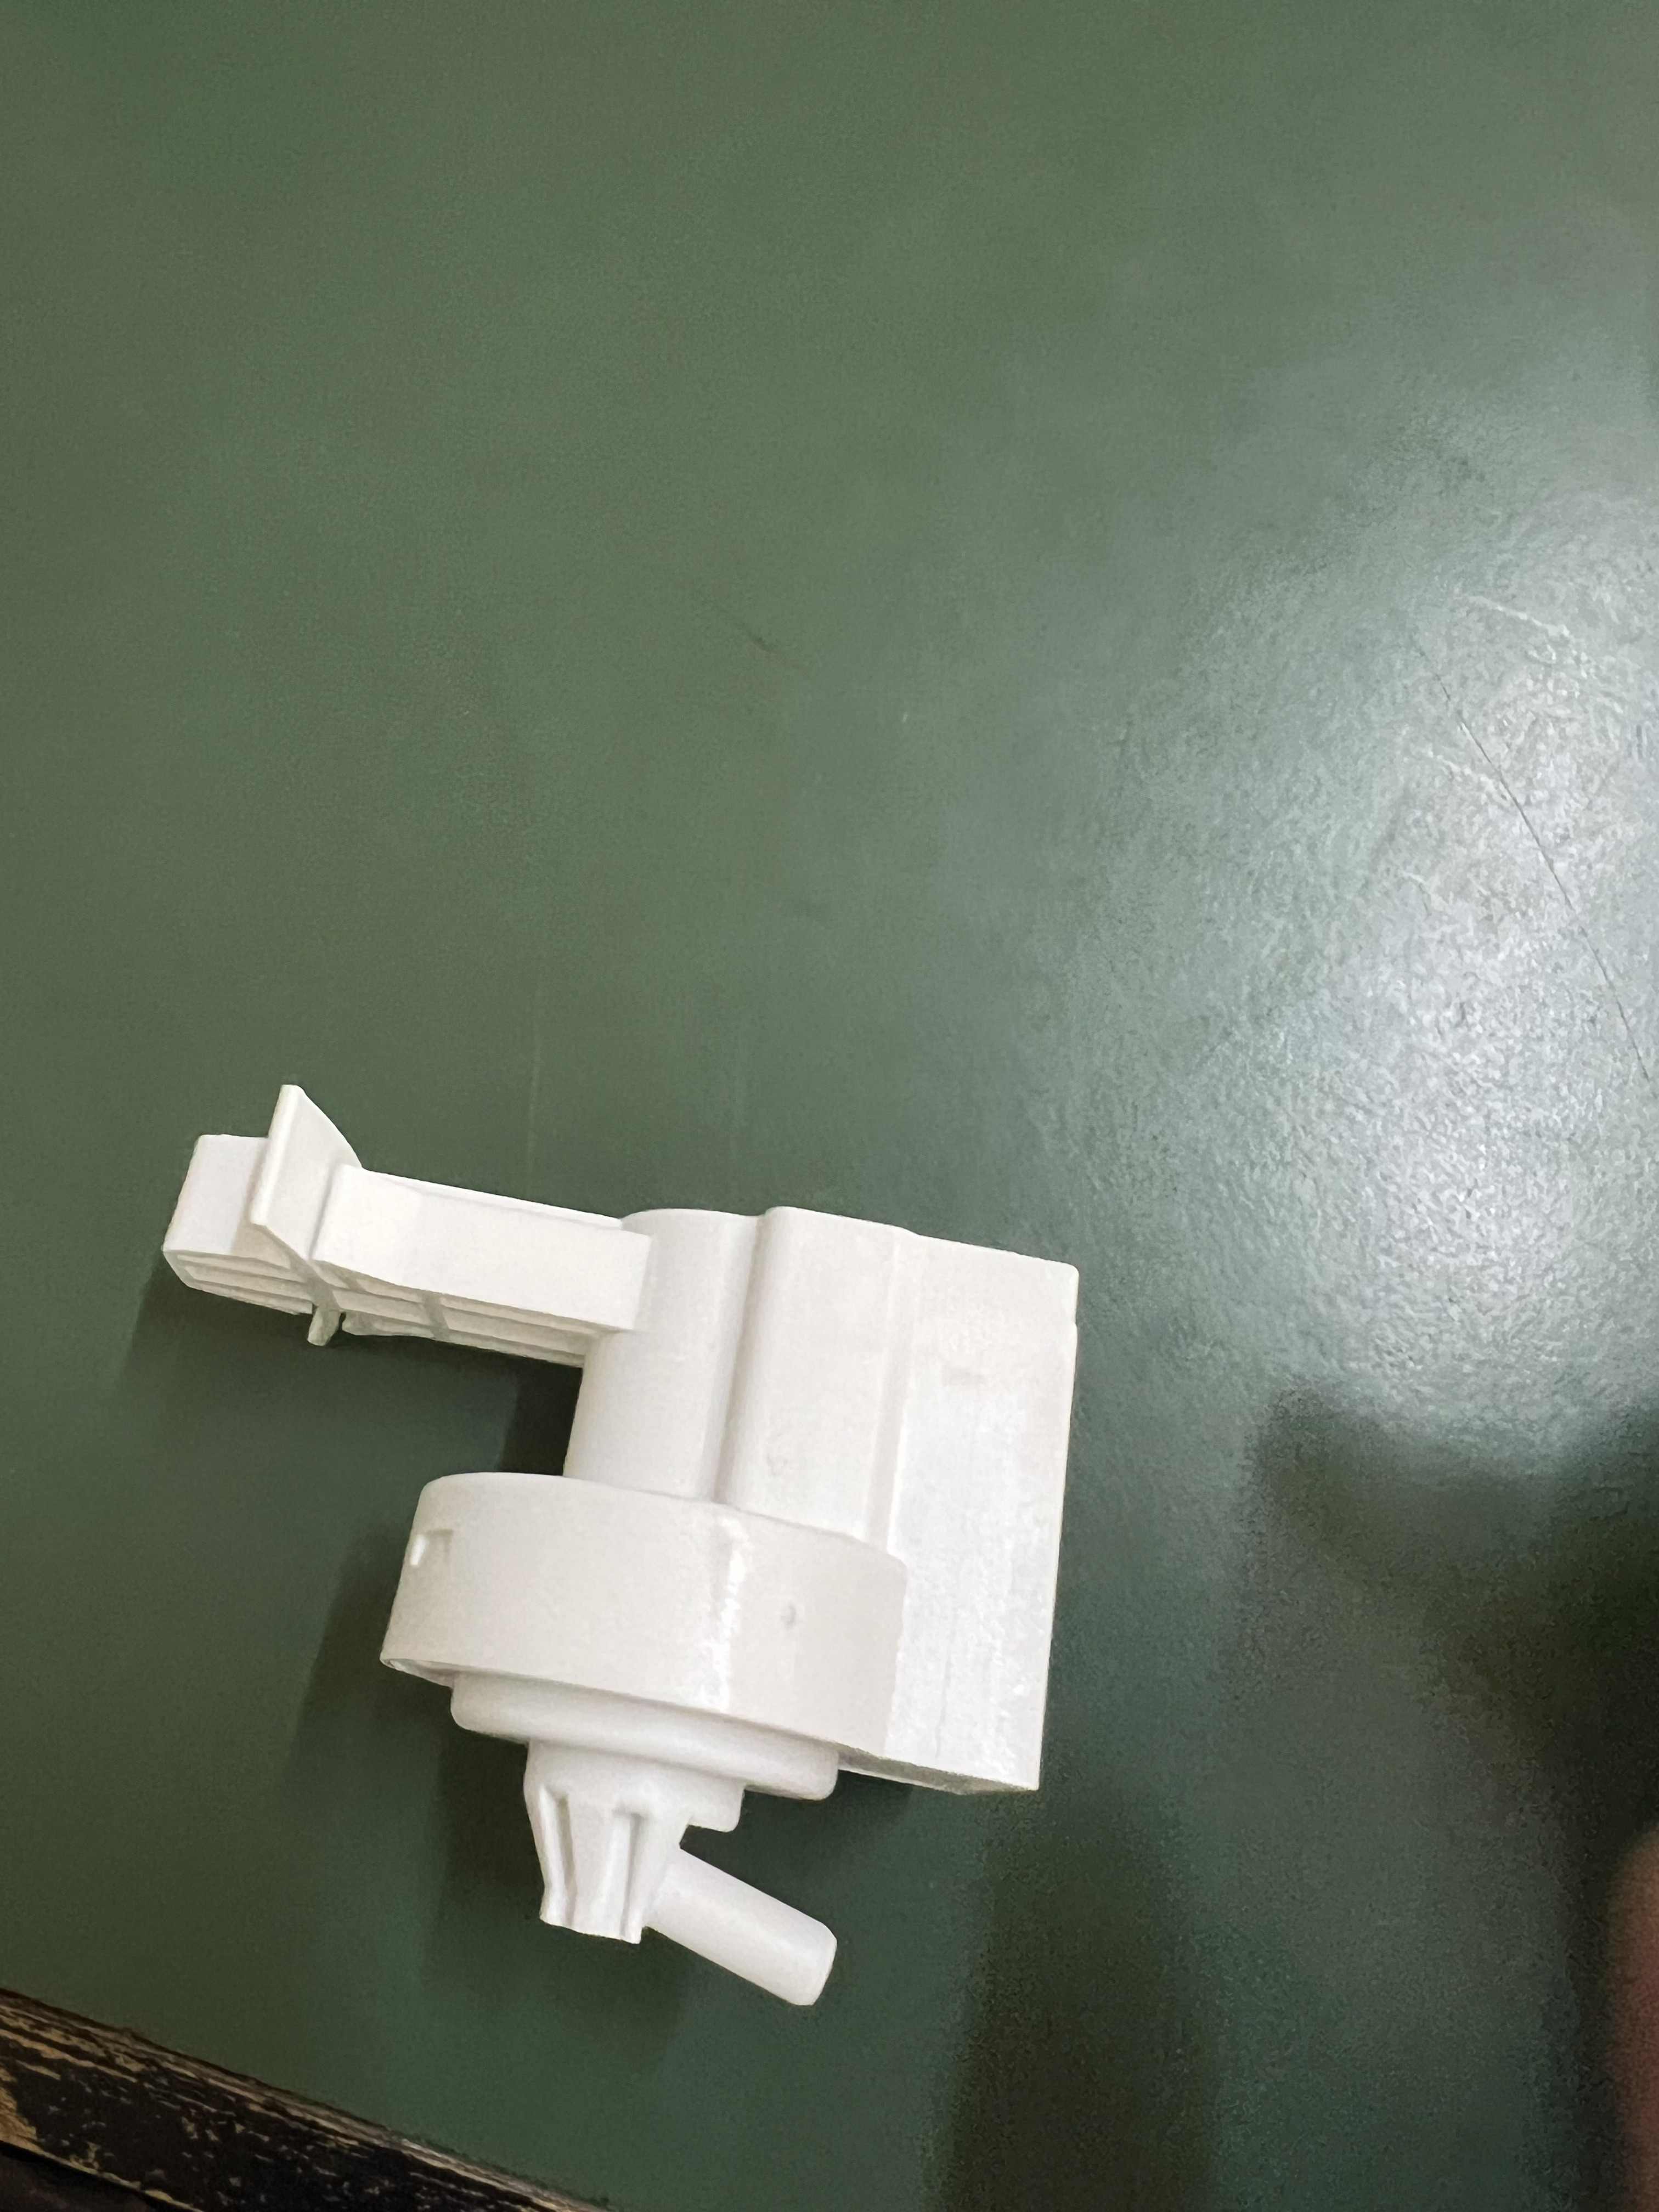pressure_switch_1: (159, 1067, 1159, 2012)
